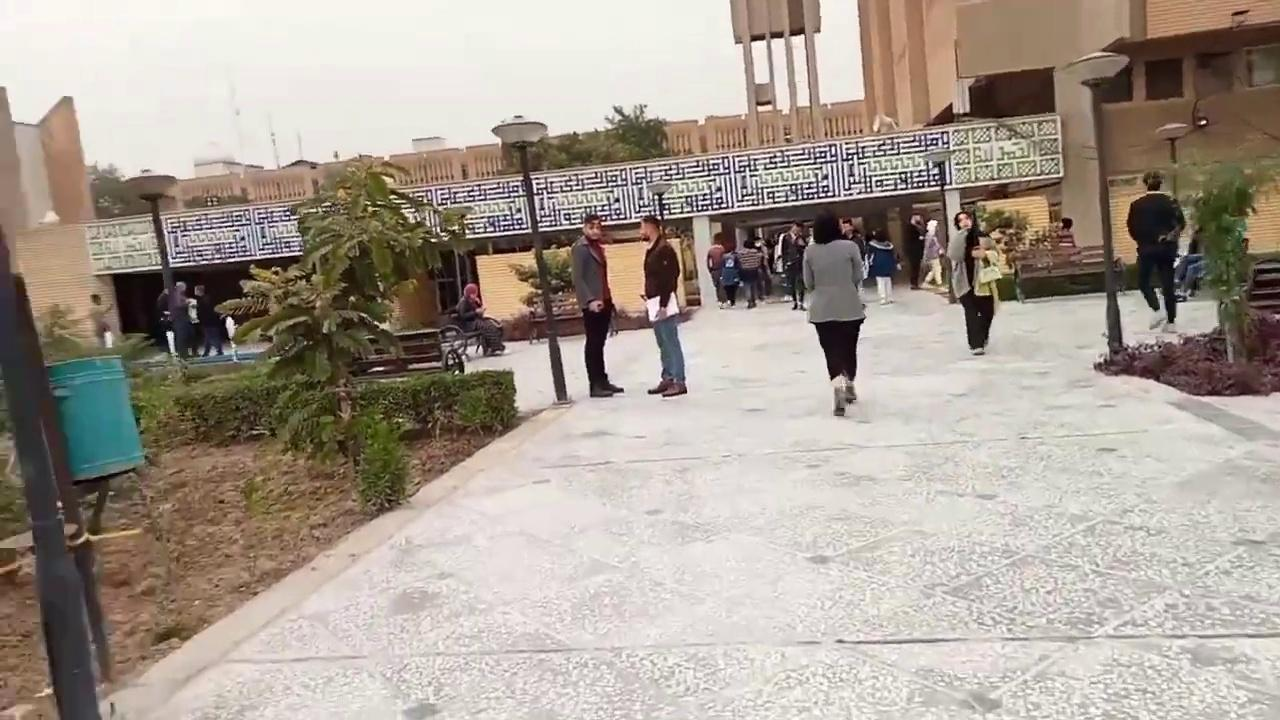person: (801, 211, 867, 416), (570, 213, 624, 397), (1126, 169, 1185, 330), (638, 215, 687, 396), (945, 210, 1001, 355), (455, 282, 505, 355), (88, 293, 112, 348), (1056, 217, 1076, 248)
tree: (212, 154, 475, 460), (493, 114, 572, 404), (1185, 168, 1258, 363), (507, 244, 575, 403), (525, 102, 673, 171), (507, 245, 574, 314), (602, 102, 670, 160)
